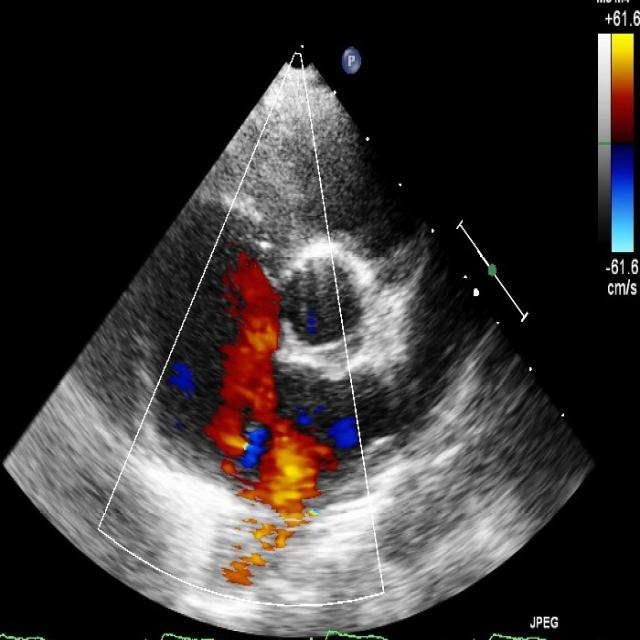ASDType2: (204, 346, 338, 509)
